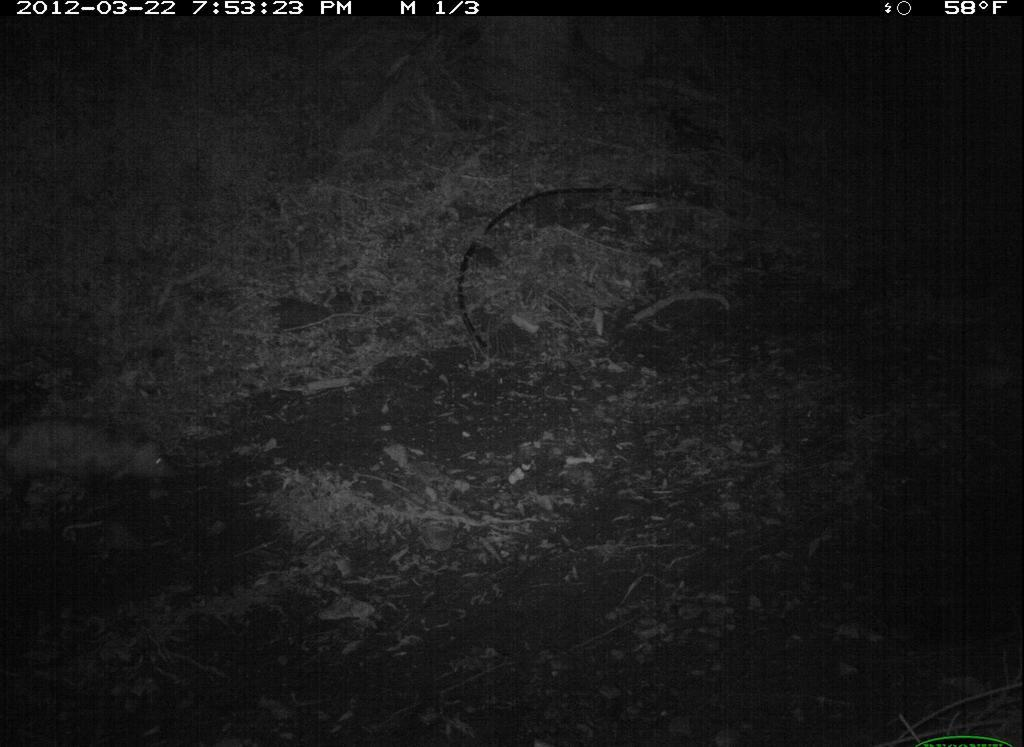opossum: (7, 401, 185, 506)
